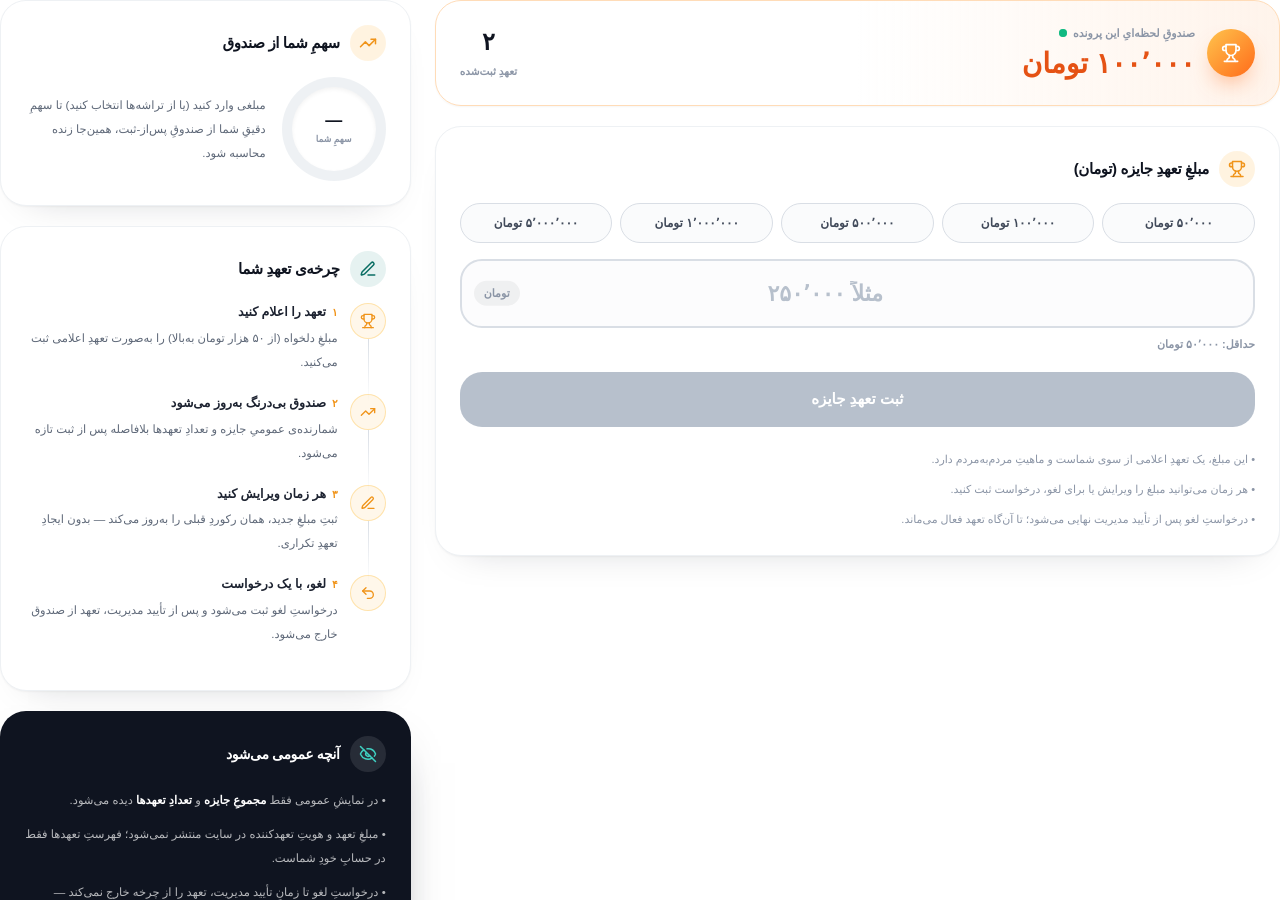
Scenario: BountyPanel — دروازه‌ی احراز هویت (403) › پیامِ مرحله‌ایِ بک‌اند + کارتِ راهنما + لینکِ پروفایل
The image size is (1280, 900).
In the field: (857, 293) [462,260,1253,326], type "100000"
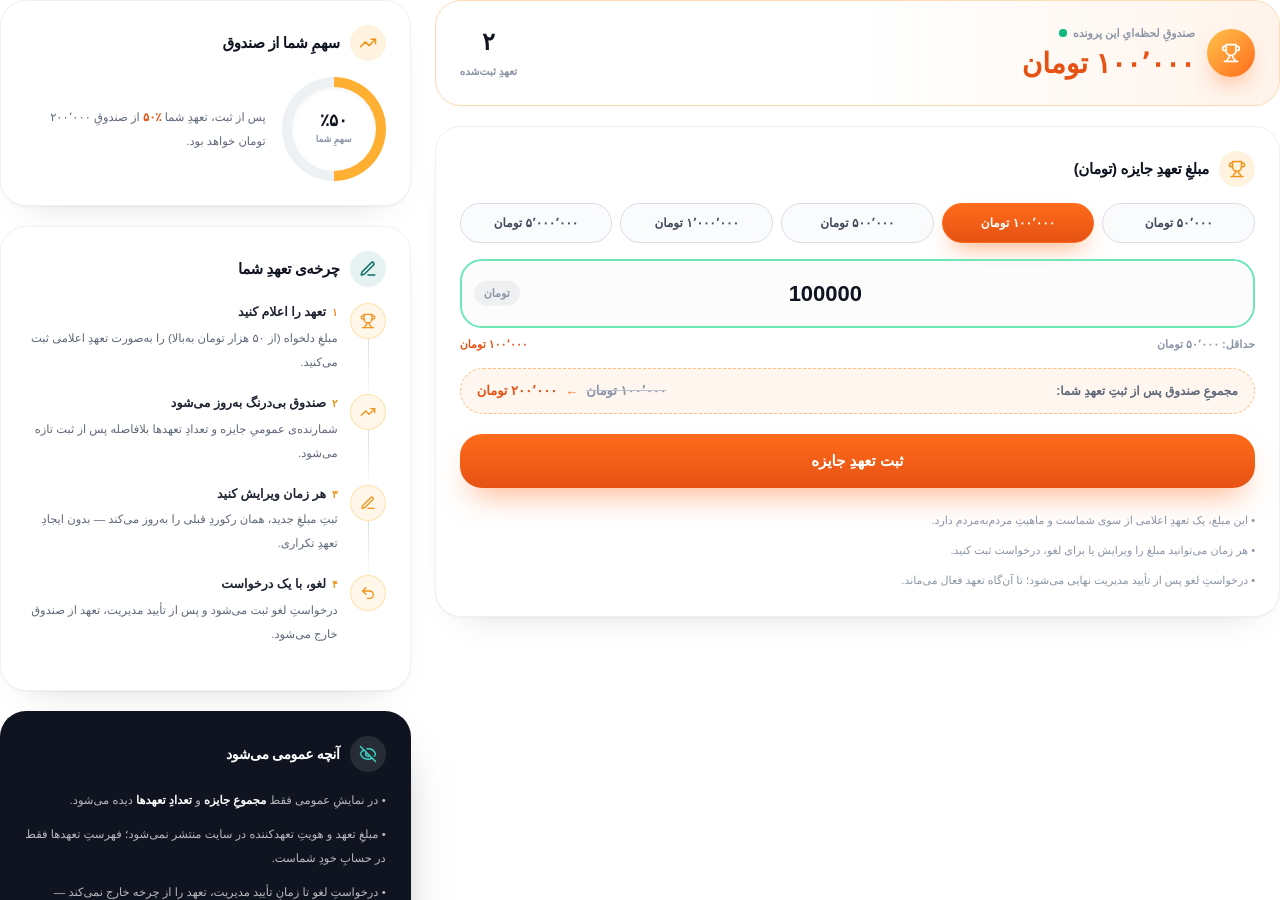
Click the button "ثبت تعهدِ جایزه": (857, 461) [460,434,1255,488]
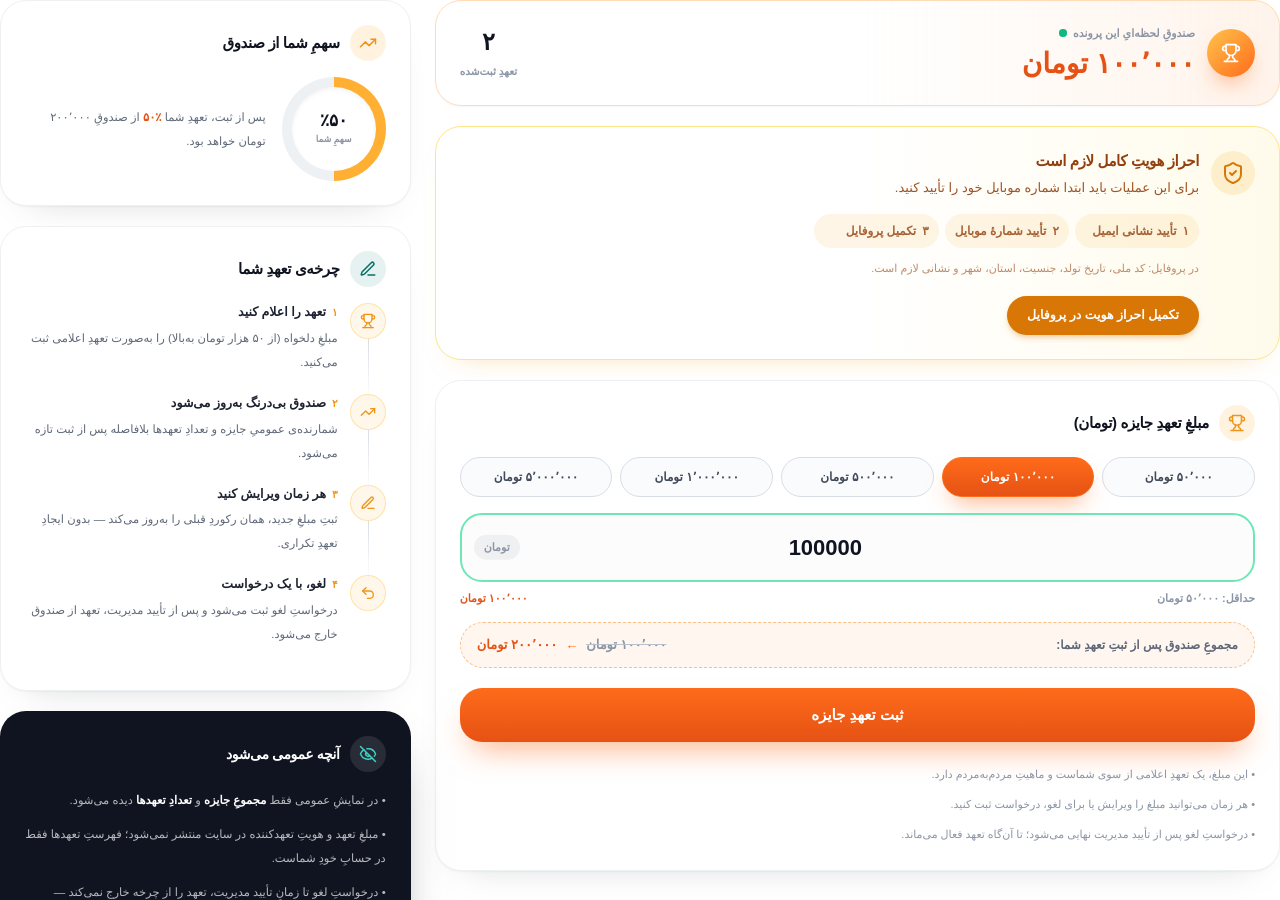
Expected: the heading "احراز هویتِ کامل لازم است" is shown, [1036,152,1199,168]
Expected: the text "برای این عملیات باید ابتدا شماره موبایل خود را تأیید کنید." is shown, [895,180,1199,195]
